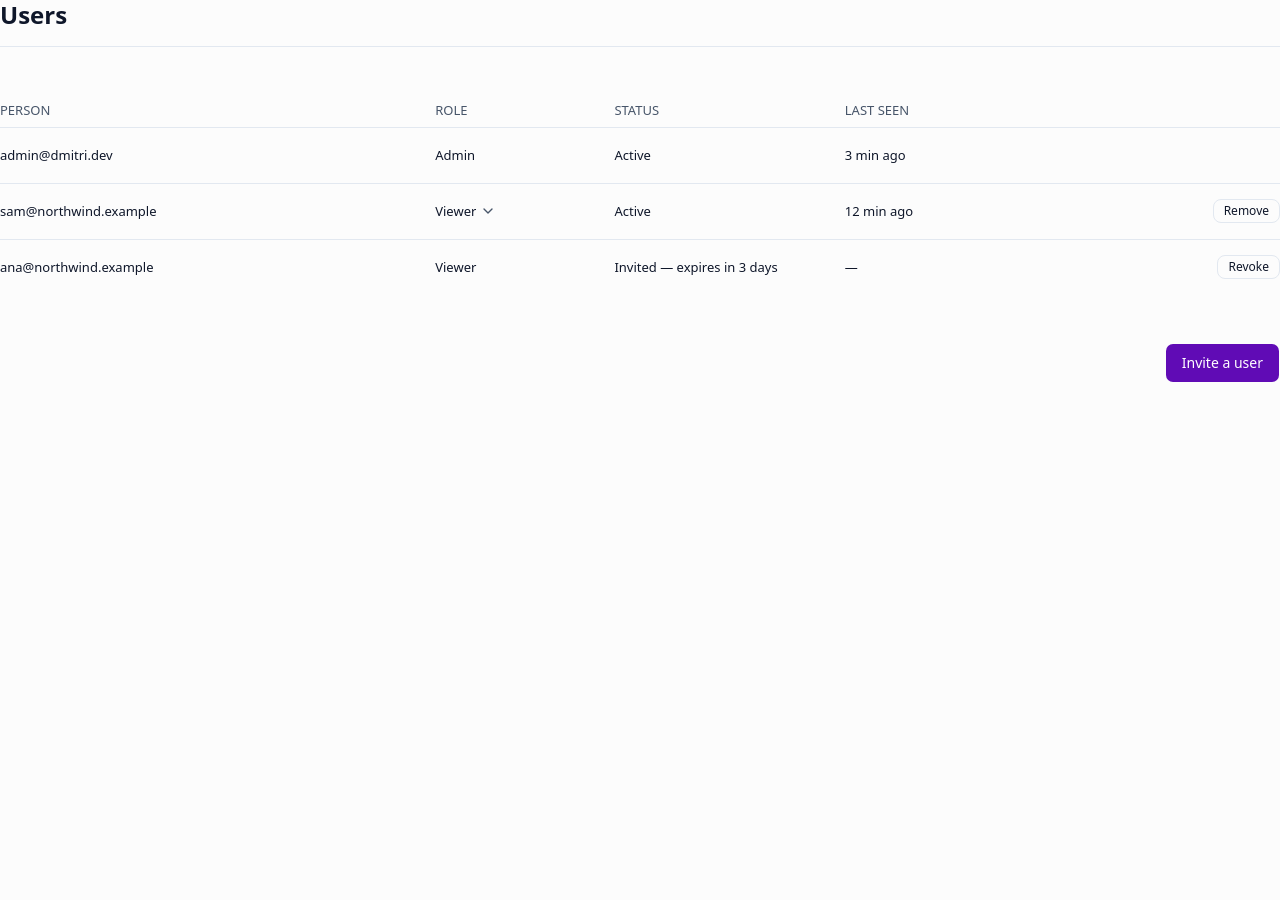
Scenario: Users role change › changes the role, raises the toast and refetches both lists
The image size is (1280, 900).
Click the dropdown labelled "Viewer": (466,211) [435,202,496,220]
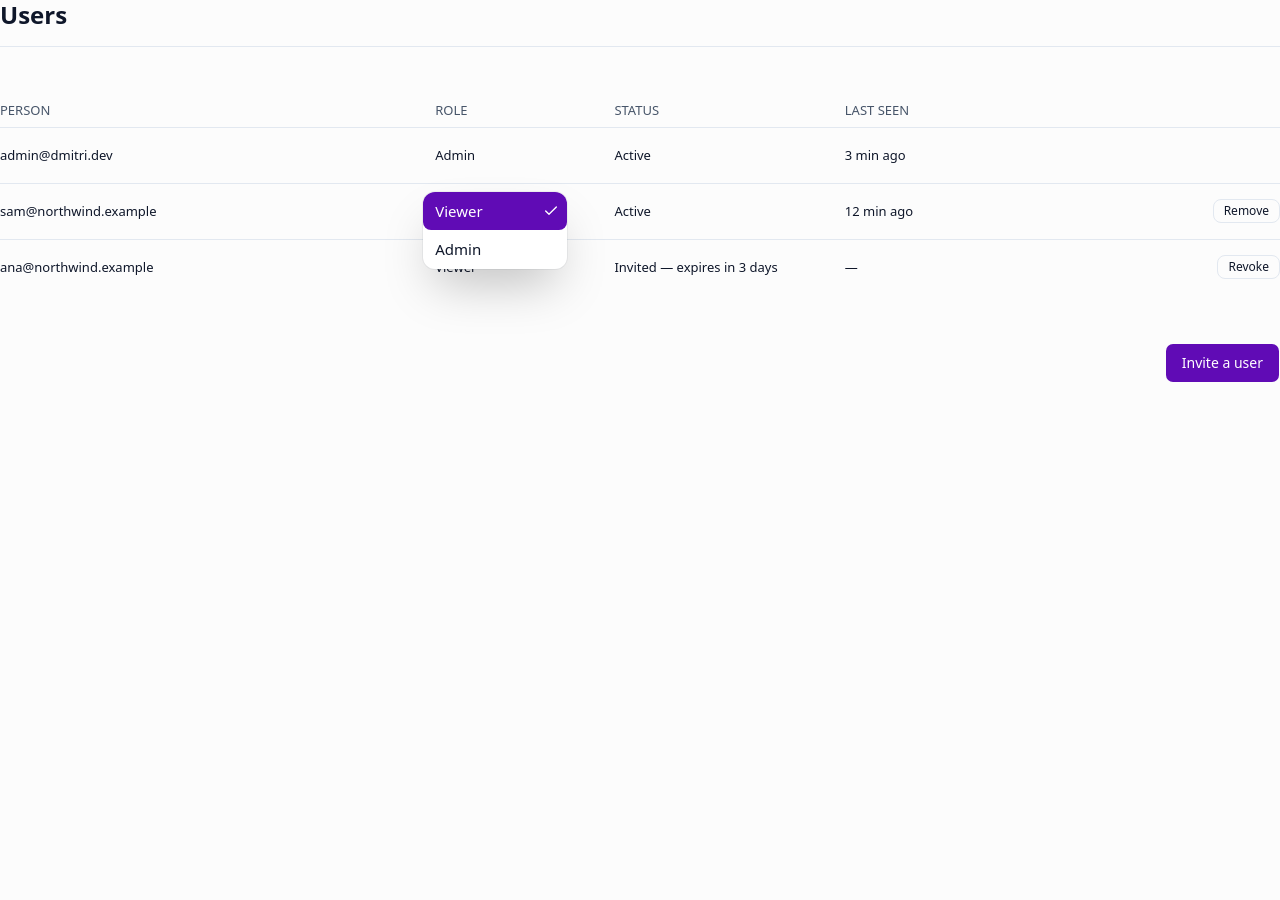
Click the option "Admin": (458,249) [435,239,481,259]
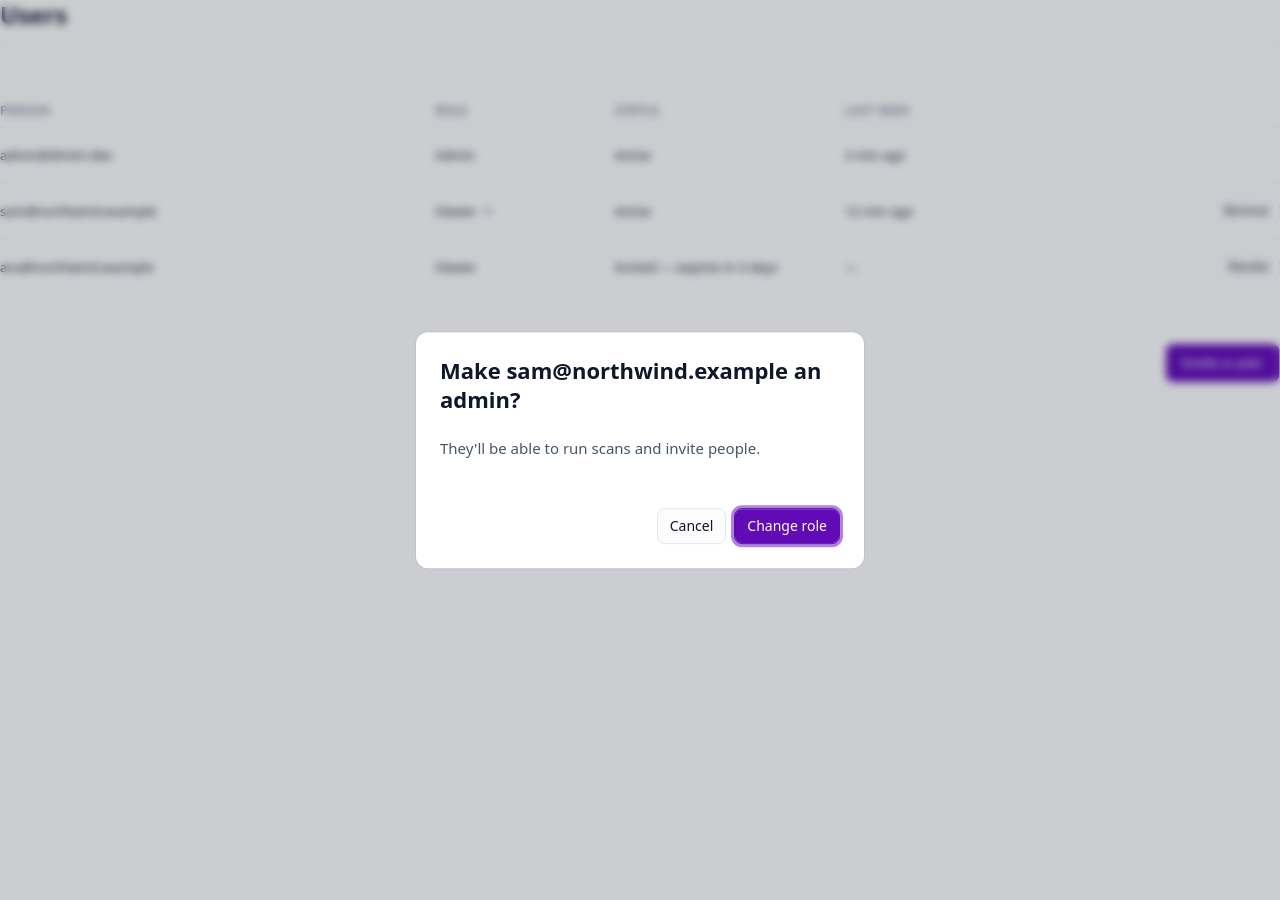
Click the button with test id "role-confirm": (787,526) [734,508,840,544]
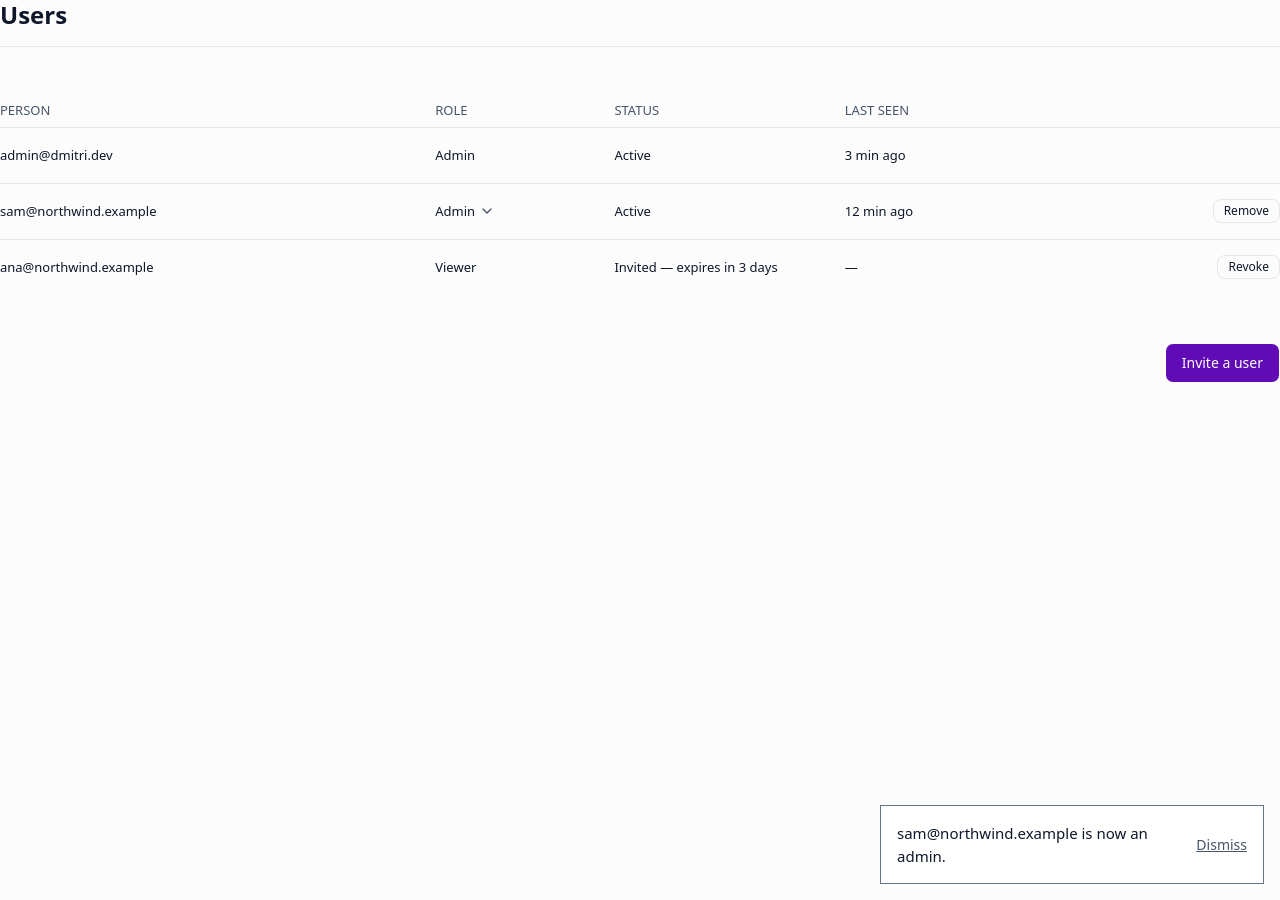
Result: the dialog with test id "role-dialog" is gone
